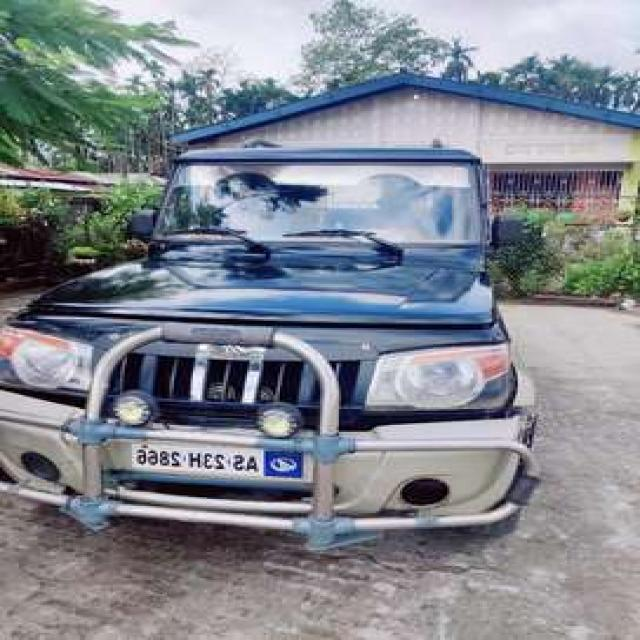license_plate: (124, 436, 310, 486)
